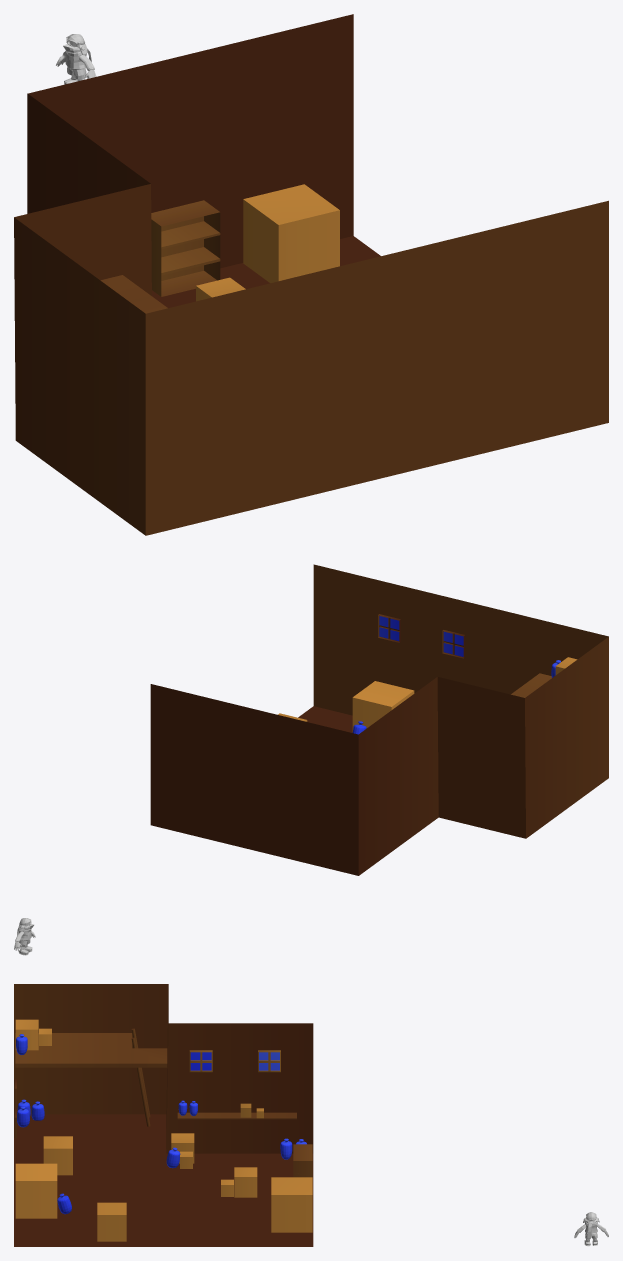
File: molinoInterior.fbx
3 renders of one model, top to bottom at view 1: azimuth 30°, elevation 25°; view 2: azimuth 150°, elevation 25°; view 3: azimuth 270°, elevation 25°, orthographic. The views are drawn at different scales.
Visible parts, largest first — view 1: Plano, Cubo.003, Cubo.022, Plano.001, 06pies, Cubo.002, Cubo; view 2: Plano, Cubo.001, Cubo.024, Plano.001, 06pies; view 3: Plano, Plano.001, Cubo.002, Cubo.001, Cubo.003, Cubo.013, Cubo.023, Cubo.014, Cubo, Cubo.004, Cubo.012, Cubo.019 (+3 smaller).
Boxes of the visible parts, x1,y1,x2,y2 form: Plano: [14, 14, 608, 535]; Cubo.003: [243, 184, 339, 283]; Cubo.022: [151, 200, 220, 296]; Plano.001: [152, 236, 380, 308]; 06pies: [56, 34, 96, 84]; Cubo.002: [100, 275, 167, 313]; Cubo: [196, 277, 245, 301]; Plano: [150, 564, 608, 875]; Cubo.001: [352, 681, 414, 731]; Cubo.024: [378, 614, 465, 658]; Plano.001: [298, 706, 352, 732]; 06pies: [14, 918, 35, 955]; Plano: [14, 984, 313, 1153]; Plano.001: [14, 1114, 313, 1246]; Cubo.002: [15, 1033, 167, 1067]; Cubo.001: [15, 1163, 57, 1218]; Cubo.003: [271, 1177, 312, 1232]; Cubo.013: [97, 1202, 126, 1241]; Cubo.023: [189, 1050, 280, 1072]; Cubo.014: [43, 1136, 72, 1175]; Cubo: [221, 1167, 257, 1197]; Cubo.004: [15, 1019, 51, 1050]; Cubo.012: [177, 1112, 296, 1119]; Cubo.019: [171, 1133, 194, 1168].
Bounding box in the file's own units: 3308 × 1626 × 6279.
